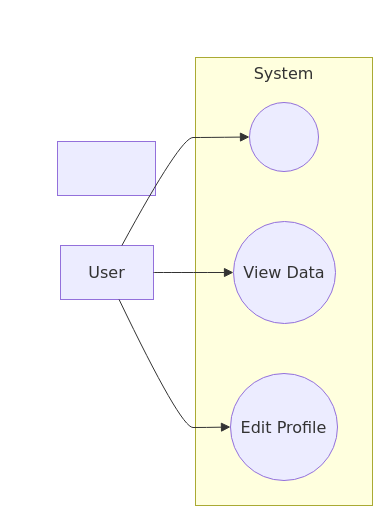
The diagram is 390 pixels wide and 523 high, and some of its shapes have lost their labels. Here are the shapes that lost their labels. From the top down, the centre of each, then its label:
At point 283,137: "Login".
At point 106,168: "Actor".
